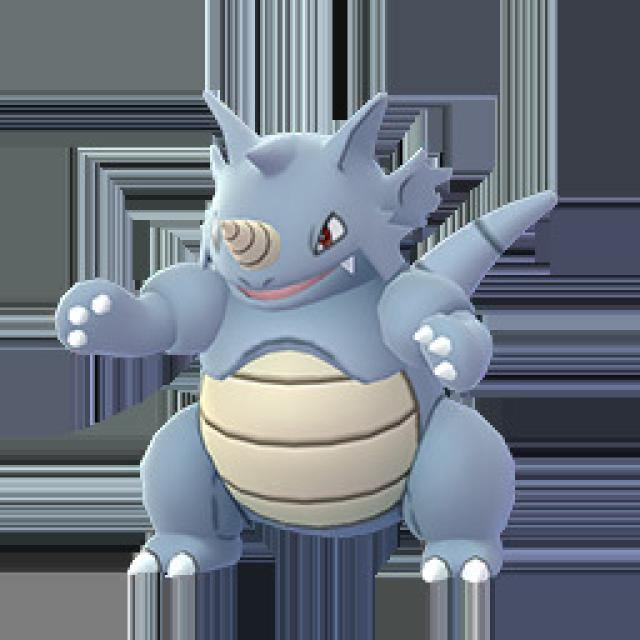Rhydon: (121, 92, 513, 592)
